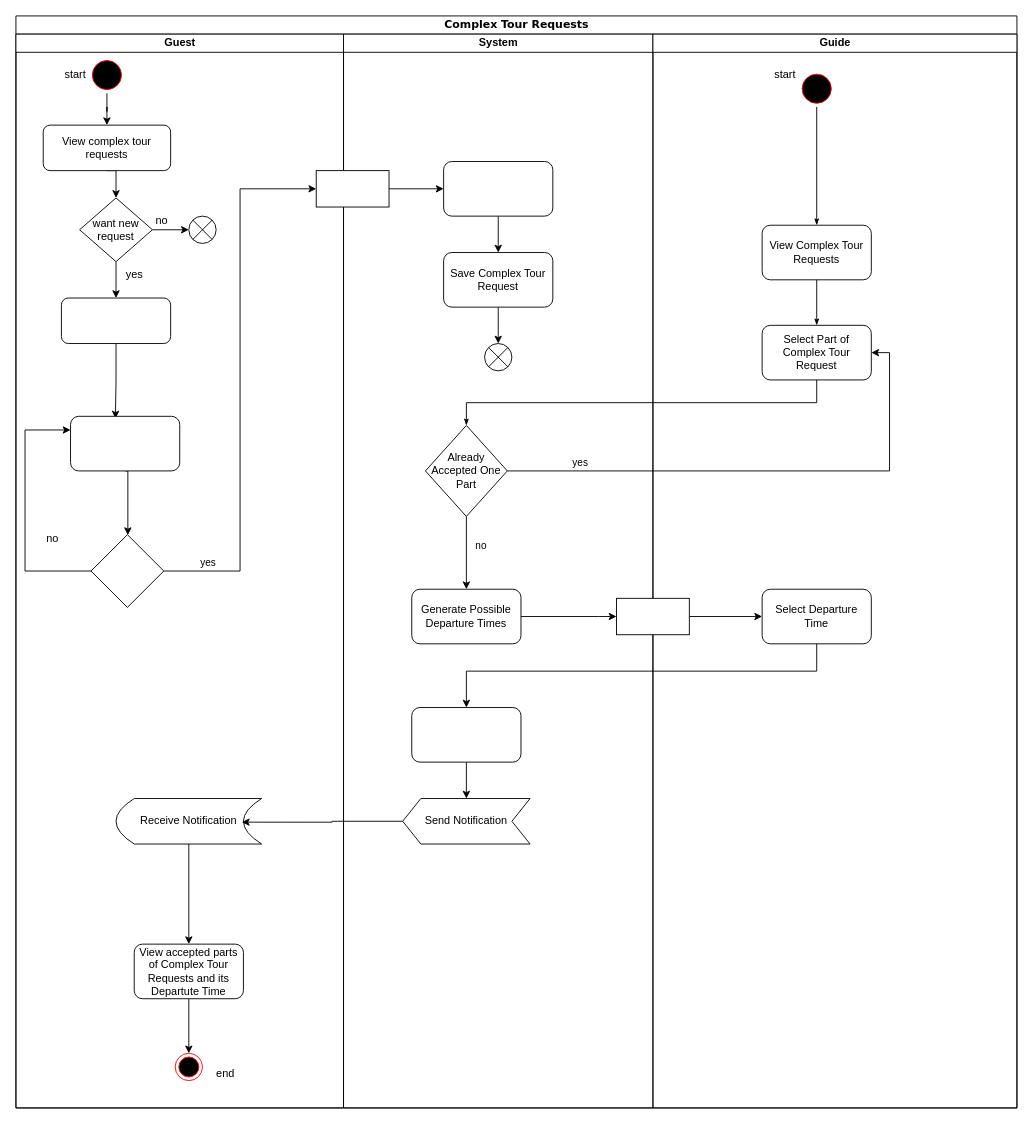
The diagram is 1033 pixels wide and 1124 high, and some of its shapes have lost their labels. The centre of each missing label's shape, as x and y in pixels:
"Add parts to complex request" belongs at [125,443].
"Create new Complex Tour Request" belongs at [116,320].
"Create Tour From Tour Request" belongs at [466,734].
"Departure Times" belongs at [652,616].
"is valid" belongs at [127,570].
"New Complex Tour" belongs at [352,188].
"Set status as PENDING" belongs at [498,188].
